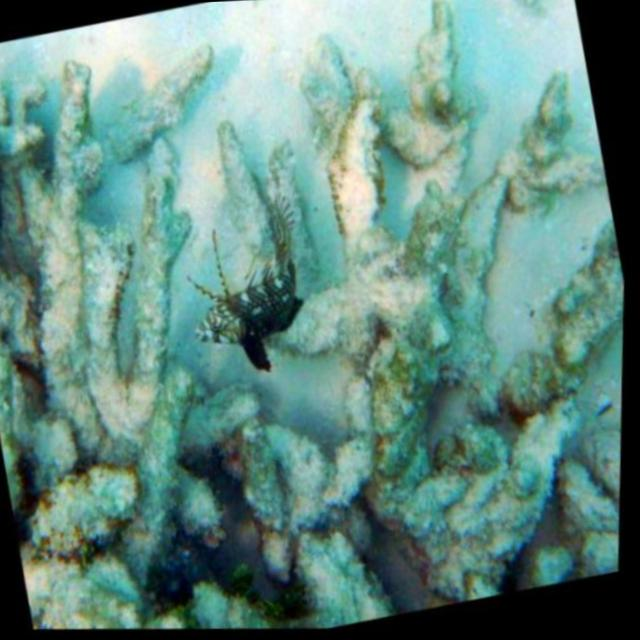Dead Coral: (233, 0, 640, 636), (0, 12, 302, 640)
